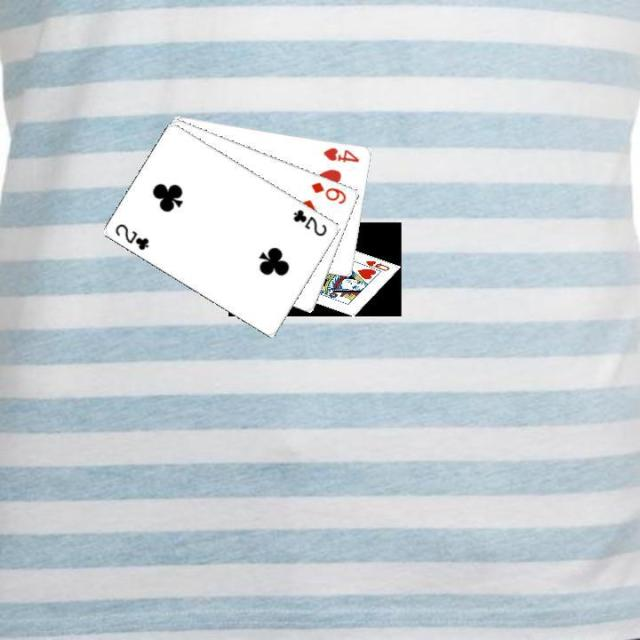2C: (111, 220, 151, 252), (290, 206, 329, 238)
4H: (320, 143, 361, 164)
6D: (307, 178, 348, 205)
